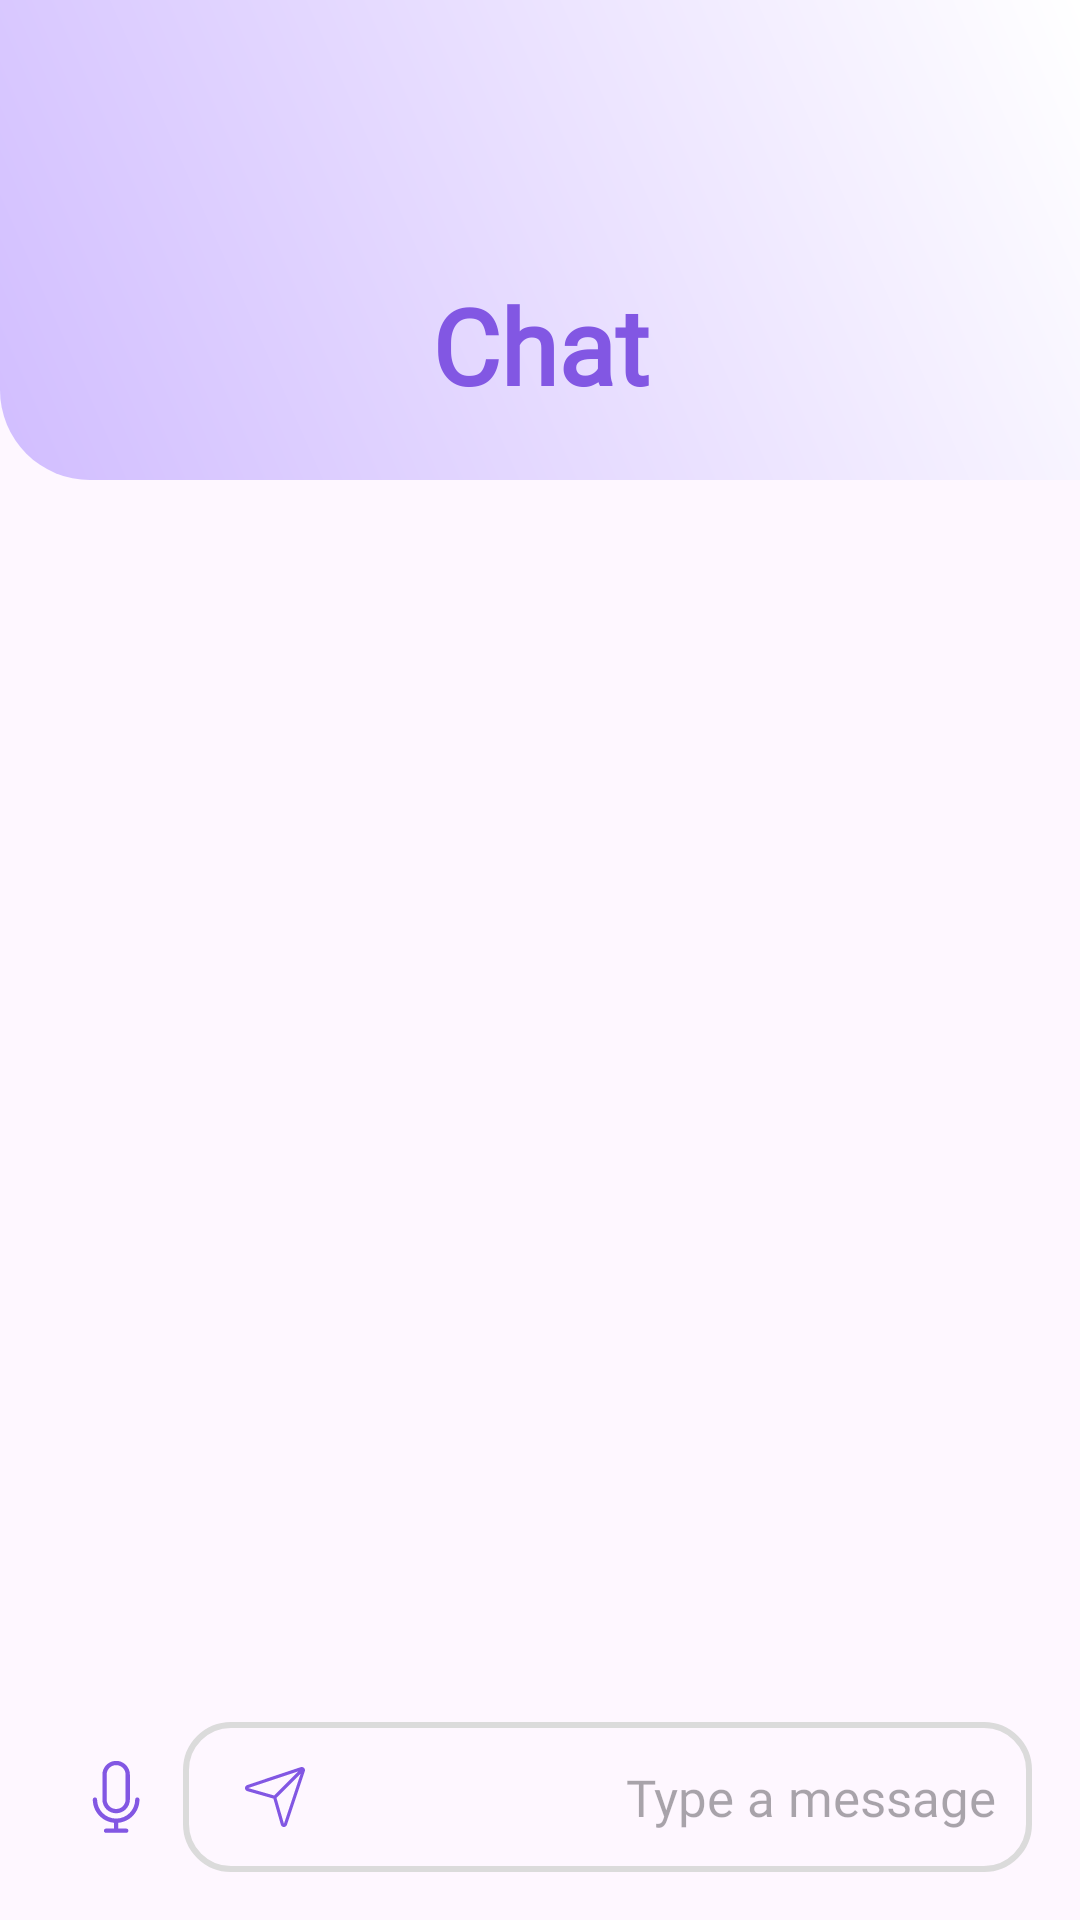

Where to tap for icons on this 1080 x 1920 app screen, as (x,y):
microphone: (116,1797)
send: (275,1797)
